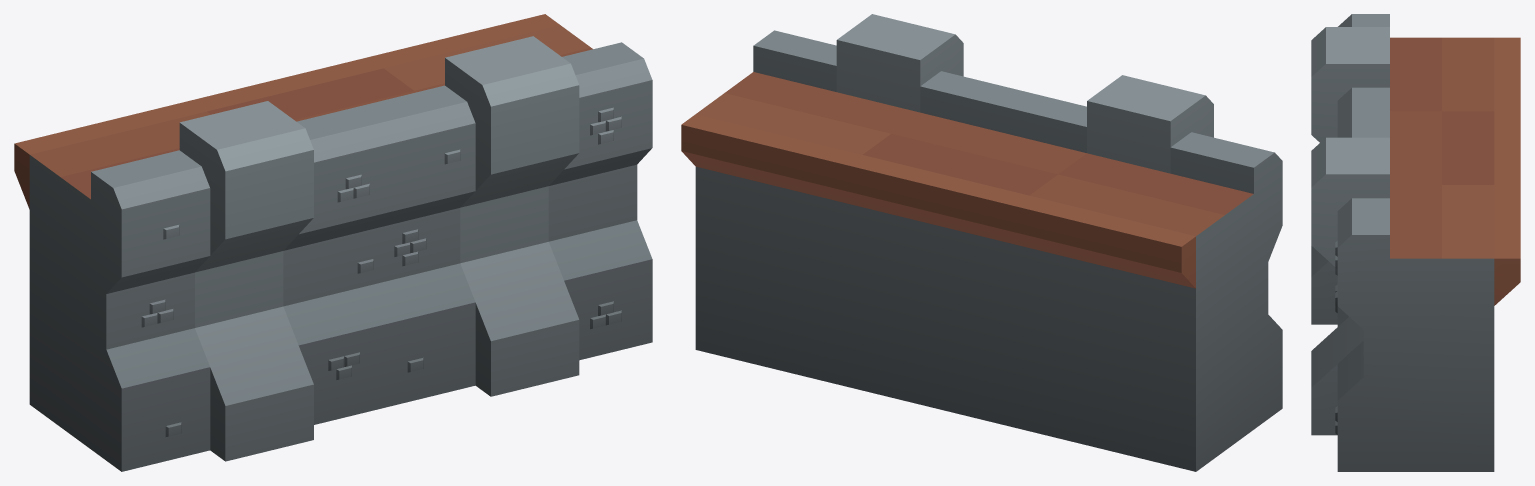
The model's file is H_wall_straight.glb.
The picture shows the model from 3 angles, left to right: view 1: azimuth 30°, elevation 25°; view 2: azimuth 150°, elevation 25°; view 3: azimuth 270°, elevation 25°; orthographic projection. The views are drawn at different scales.
Visible parts, largest first — view 1: wall_straight; view 2: wall_straight; view 3: wall_straight.
Boxes of the visible parts, left/top/right/bottom form: wall_straight: left=14, top=14, right=652, bottom=471; wall_straight: left=681, top=14, right=1282, bottom=471; wall_straight: left=1311, top=14, right=1520, bottom=471.
Size of the model in its own units: 2 by 1.1 by 0.7999.
